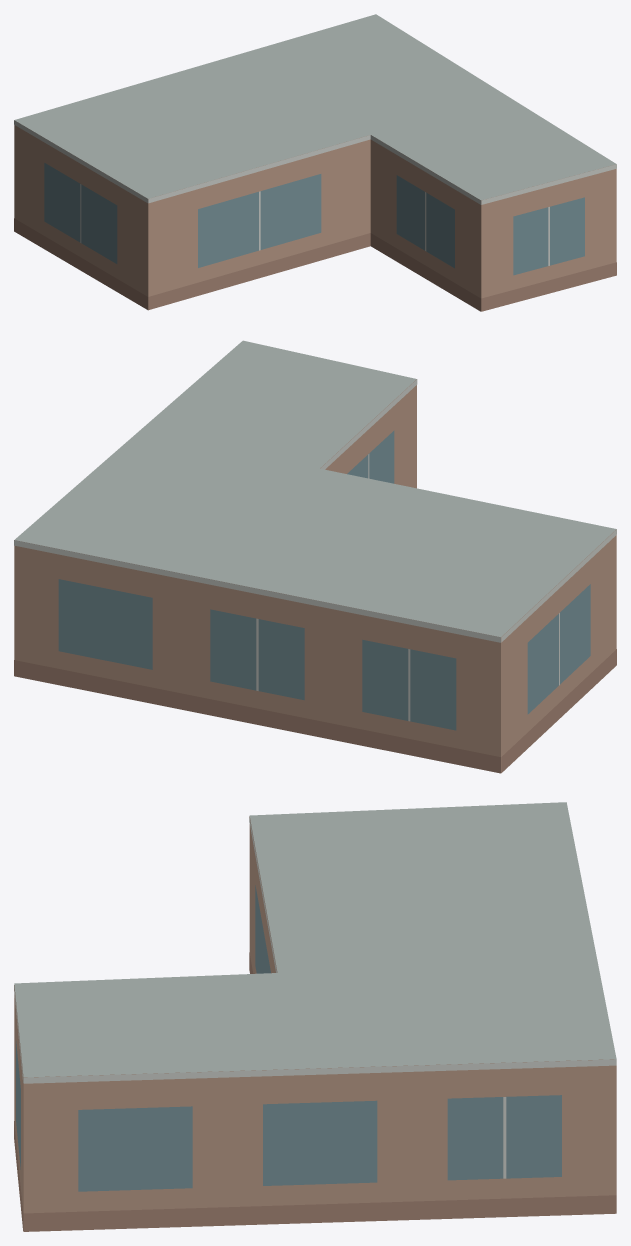
File: survey-upis-32767082.glb
The picture shows the model from 3 angles, top to bottom: view 1: azimuth 30°, elevation 25°; view 2: azimuth 150°, elevation 25°; view 3: azimuth 270°, elevation 25°; orthographic projection. The views are drawn at different scales.
Parts seen in each view (by area): view 1: survey-upis-32767082.tmp; view 2: survey-upis-32767082.tmp; view 3: survey-upis-32767082.tmp.
Part boxes in pixels (<box>): survey-upis-32767082.tmp: <box>14,14,616,311</box>; survey-upis-32767082.tmp: <box>14,340,616,773</box>; survey-upis-32767082.tmp: <box>14,802,616,1231</box>.
Size of the model in its own units: 11.68 by 3.05 by 10.8.
